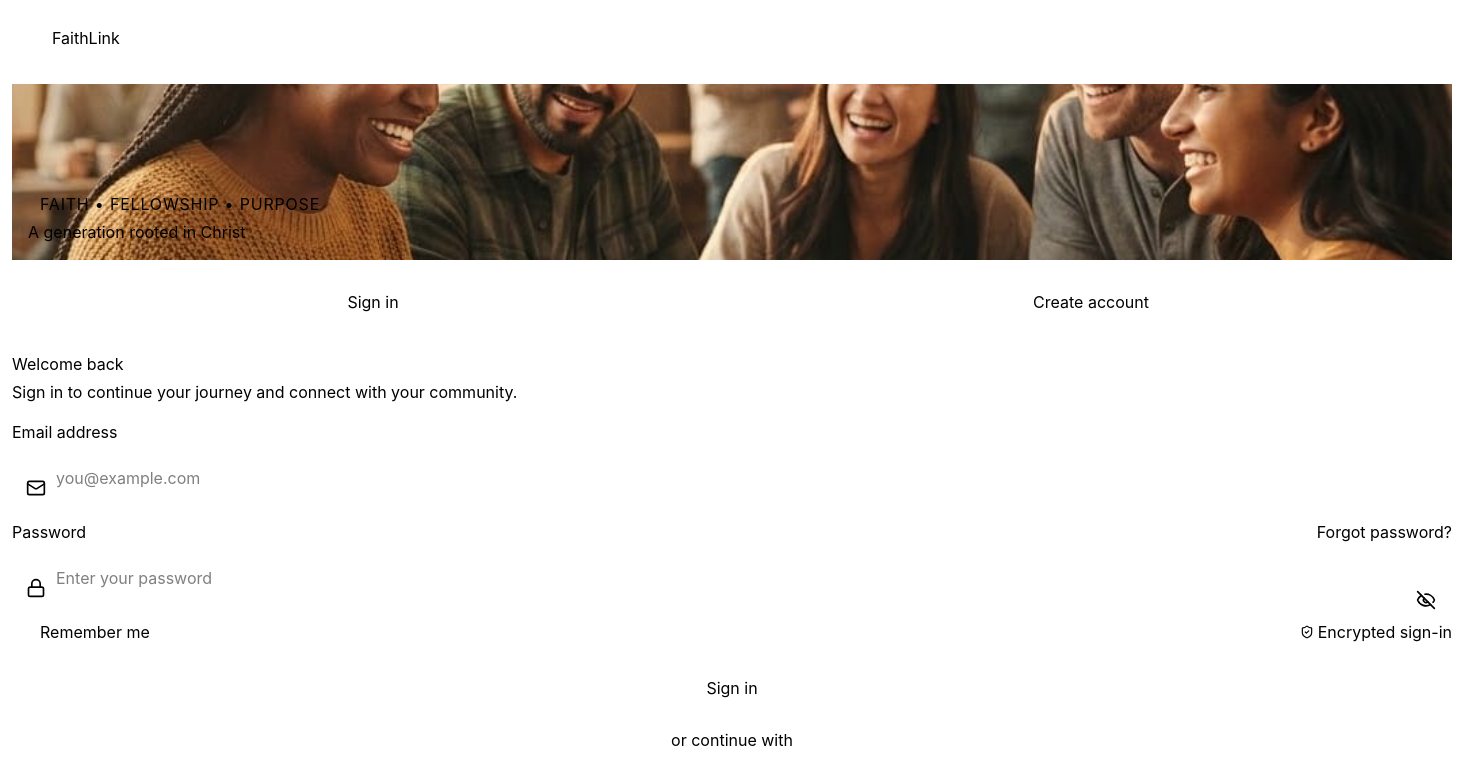
Test: Sign in page › sends an unverified account to the verification code screen
Type "unverified@example.com" into the field labelled "Email address" at coordinates (732, 478), box [12,452,1452,504]
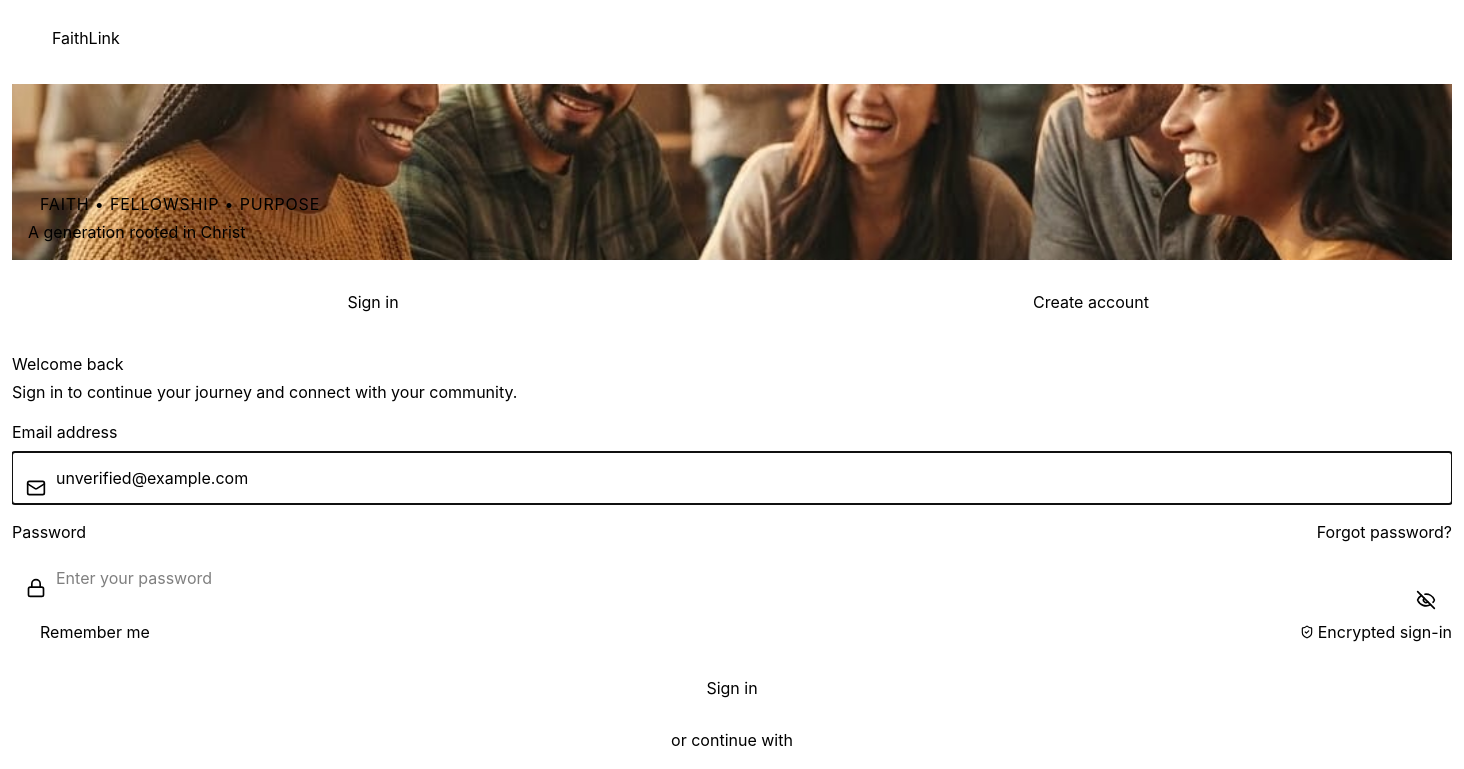
Type "correct-horse" into the password field labelled "Password" at coordinates (732, 578), box [12,552,1452,604]
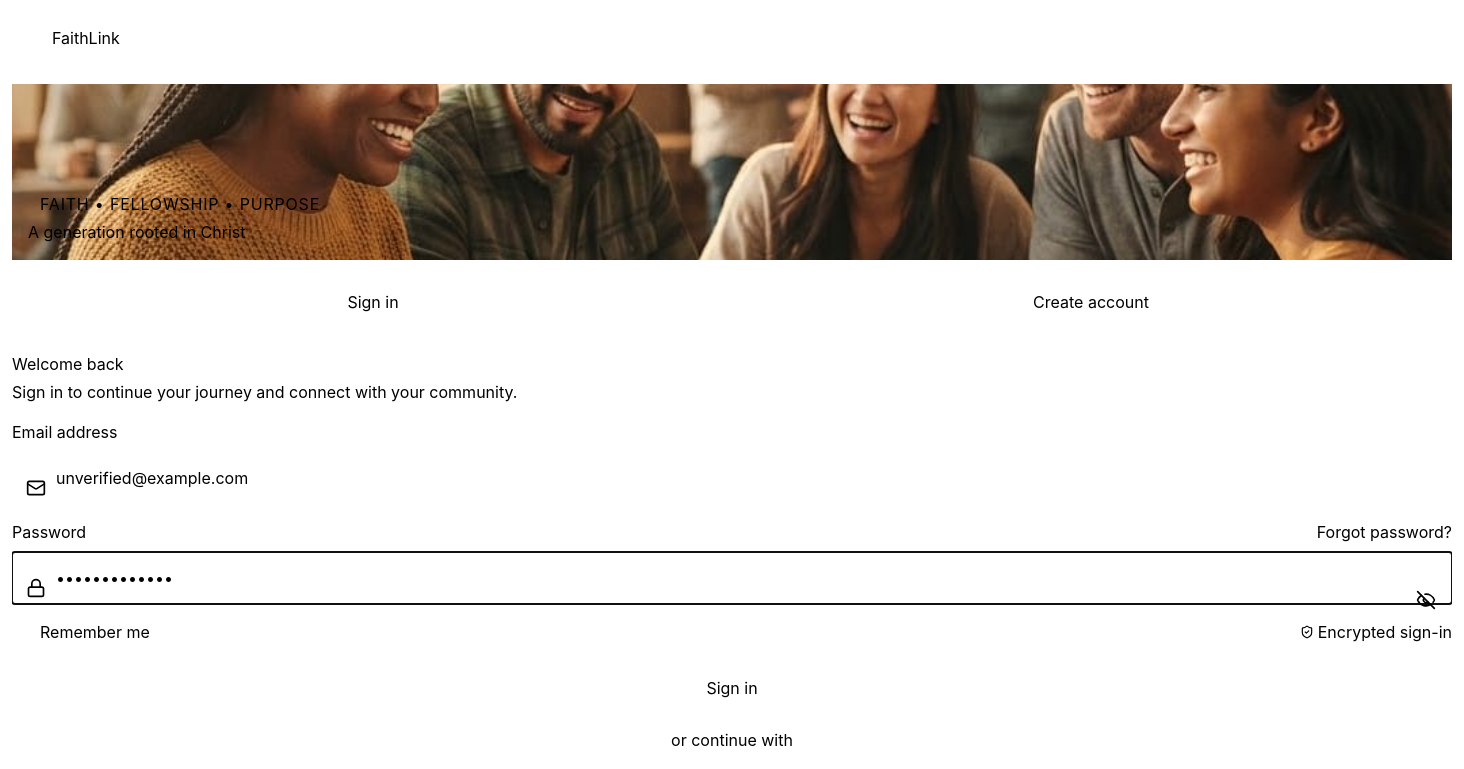
Click the button "Sign in" at coordinates (732, 688), box [12,664,1452,712]
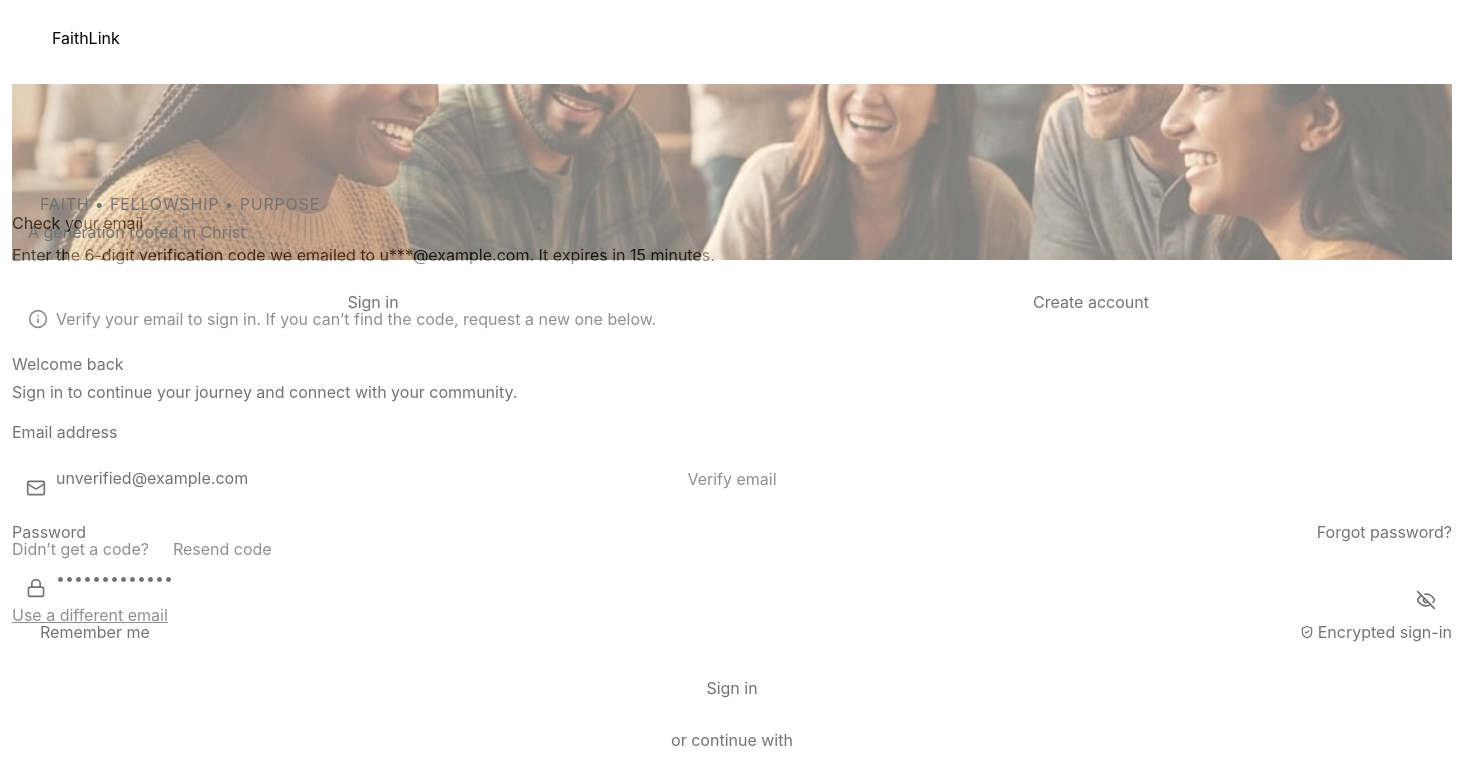
Expected: the heading "Check your email" is shown, [12,213,143,233]
Expected: the text "Verify your email to sign in" is shown, [56,309,656,329]
